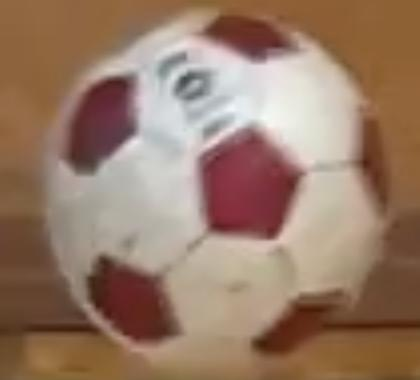Sports-Ball: (54, 9, 372, 353)
